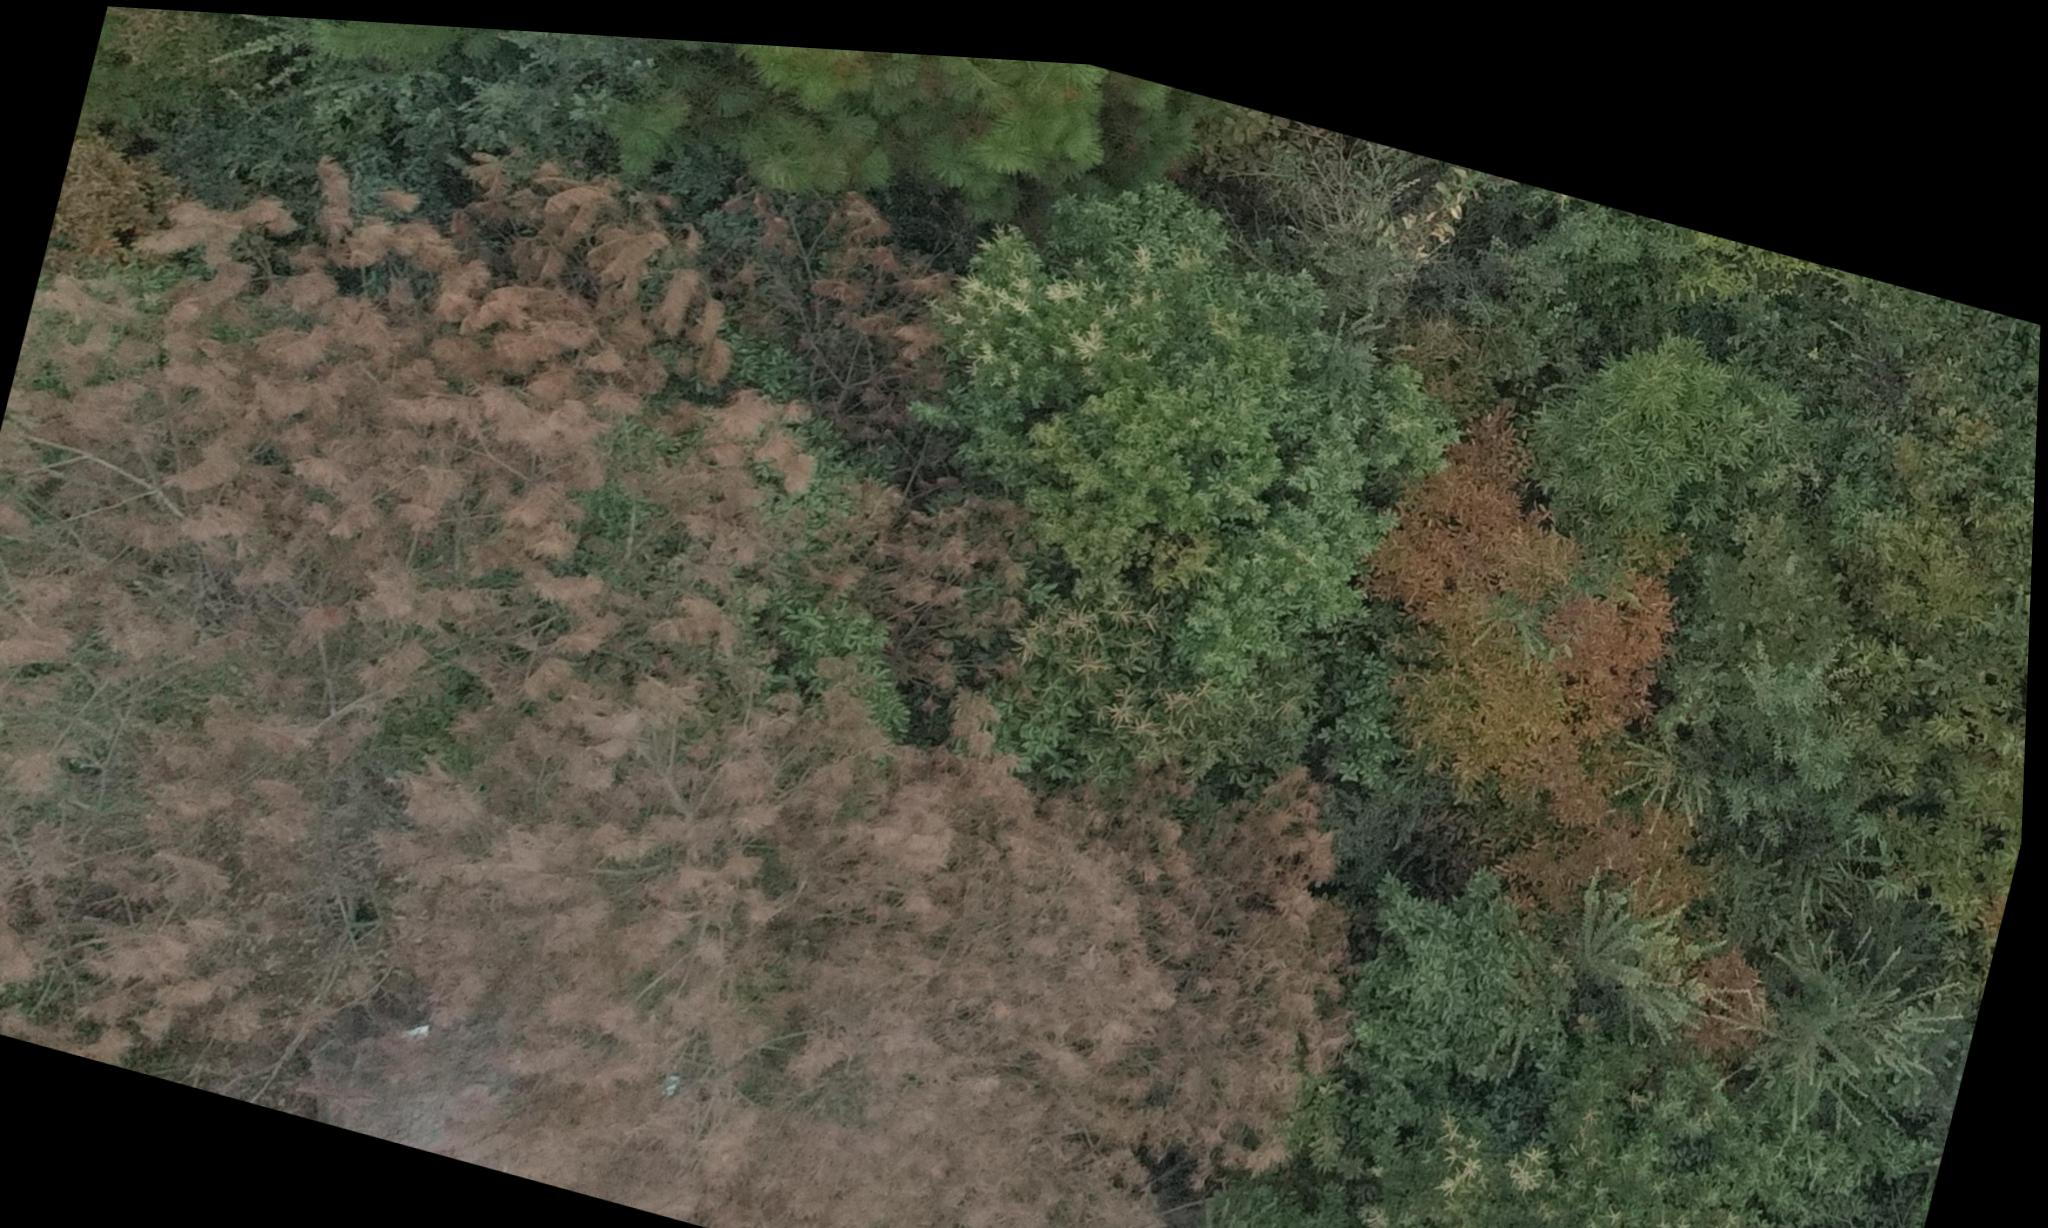heavy: (0, 18, 940, 1205), (716, 617, 1431, 1228)
